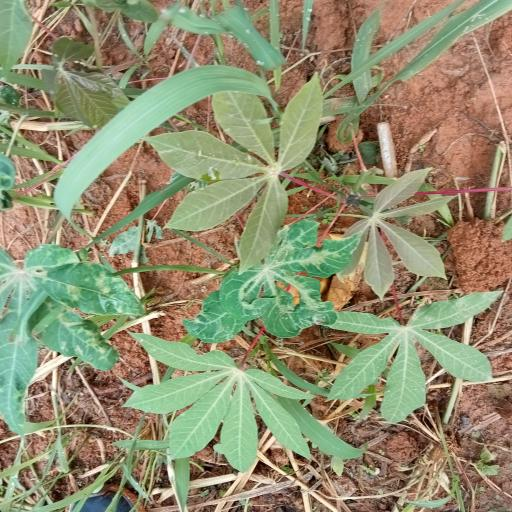Cassava_Mosaic: (150, 80, 317, 265), (129, 334, 322, 470), (1, 248, 133, 426), (331, 305, 489, 429)
